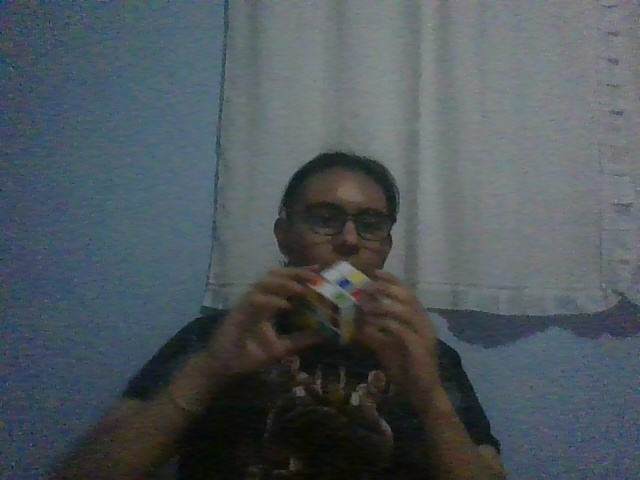rubik: (306, 260, 375, 347)
